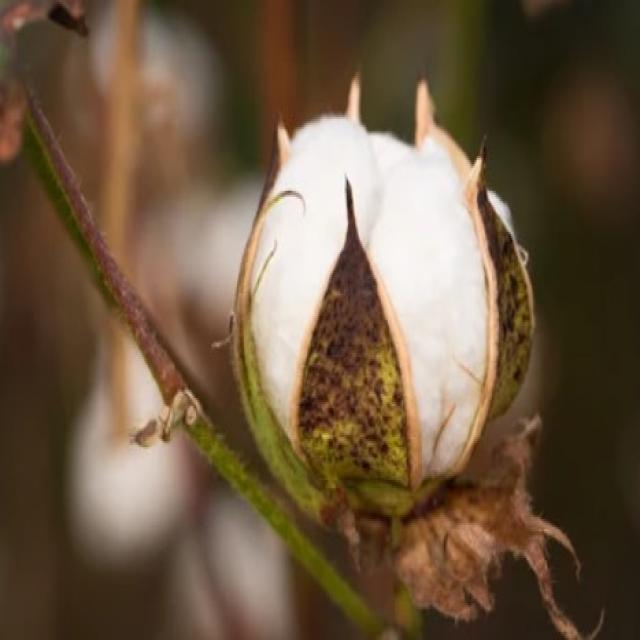Split Cotton Boll: (238, 111, 518, 518)
